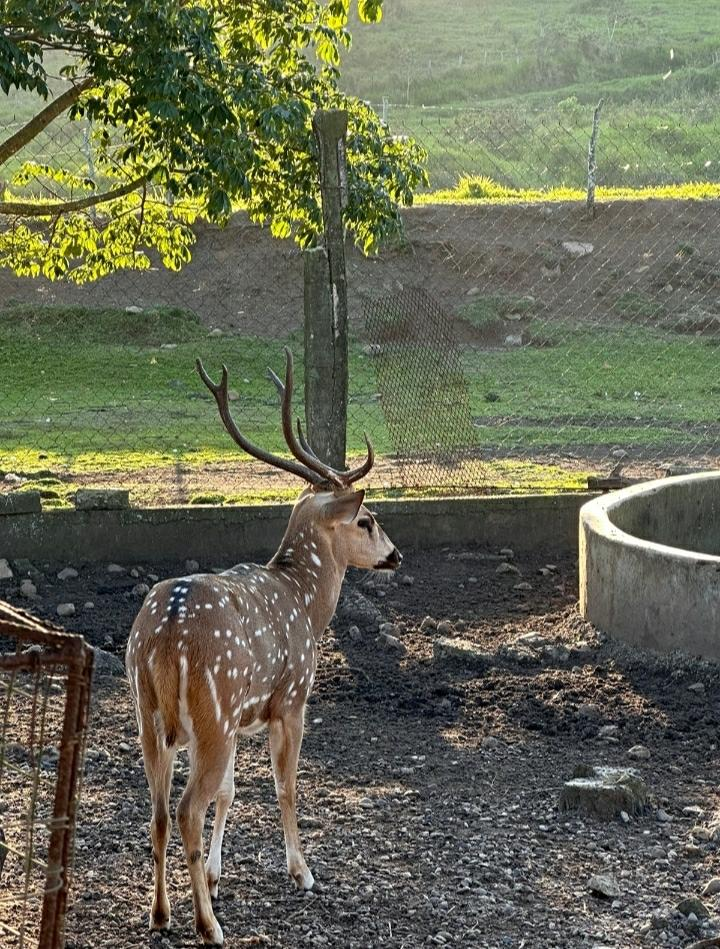Deer: (126, 346, 401, 944)
